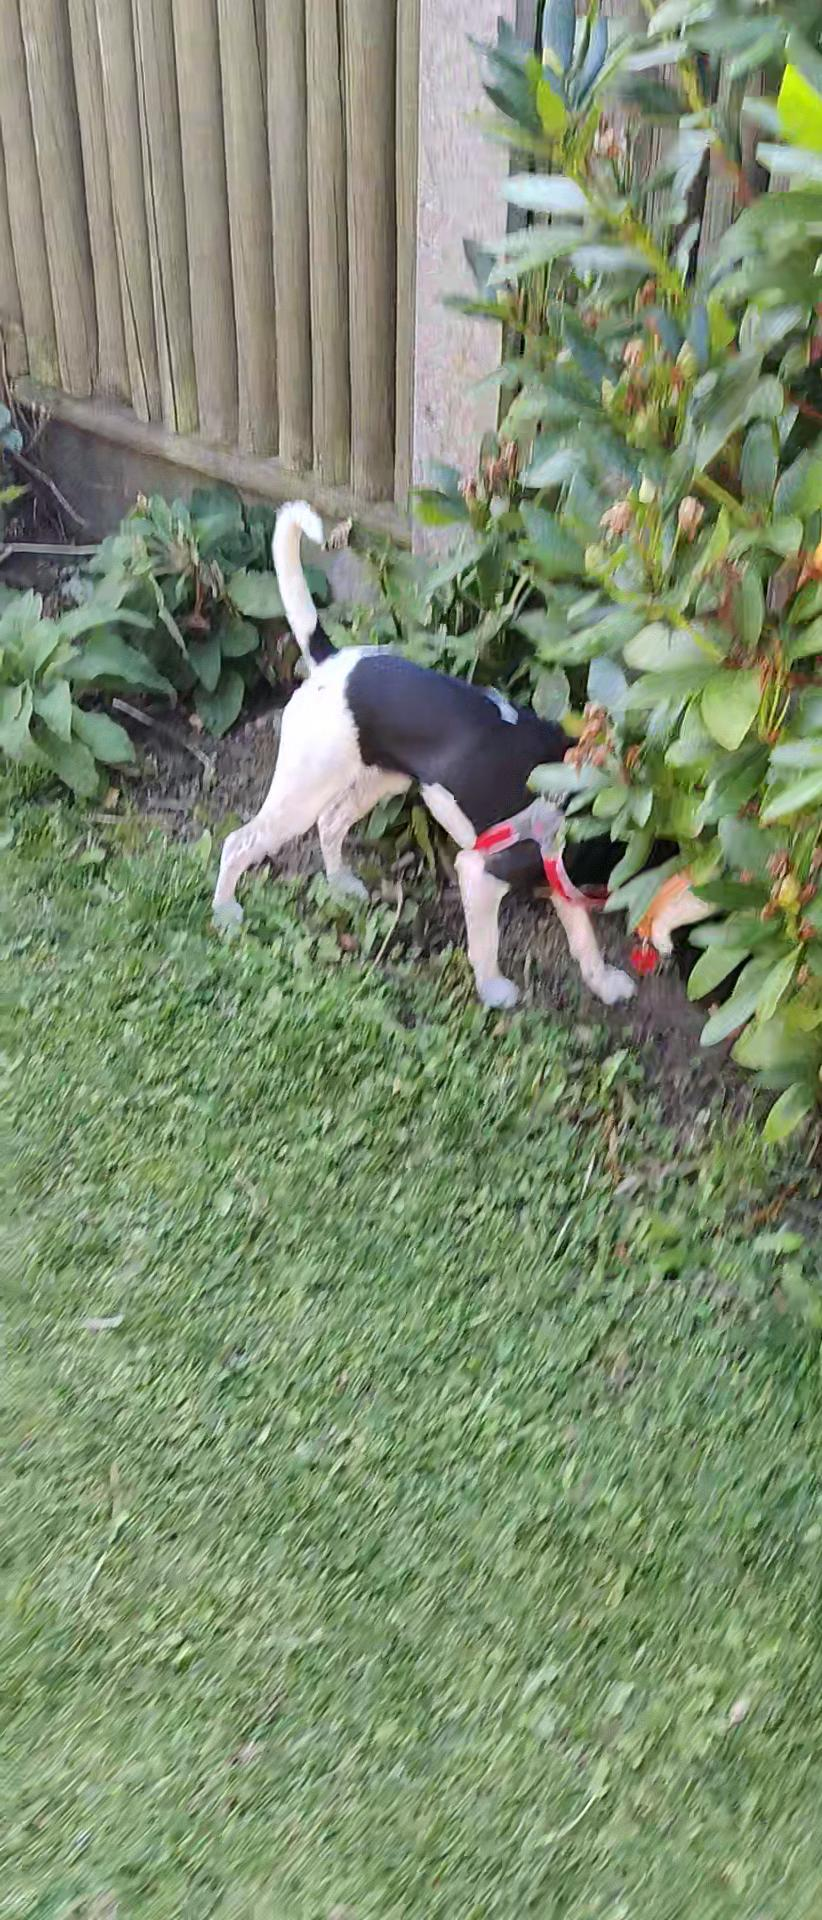Dog: (205, 485, 800, 1051)
